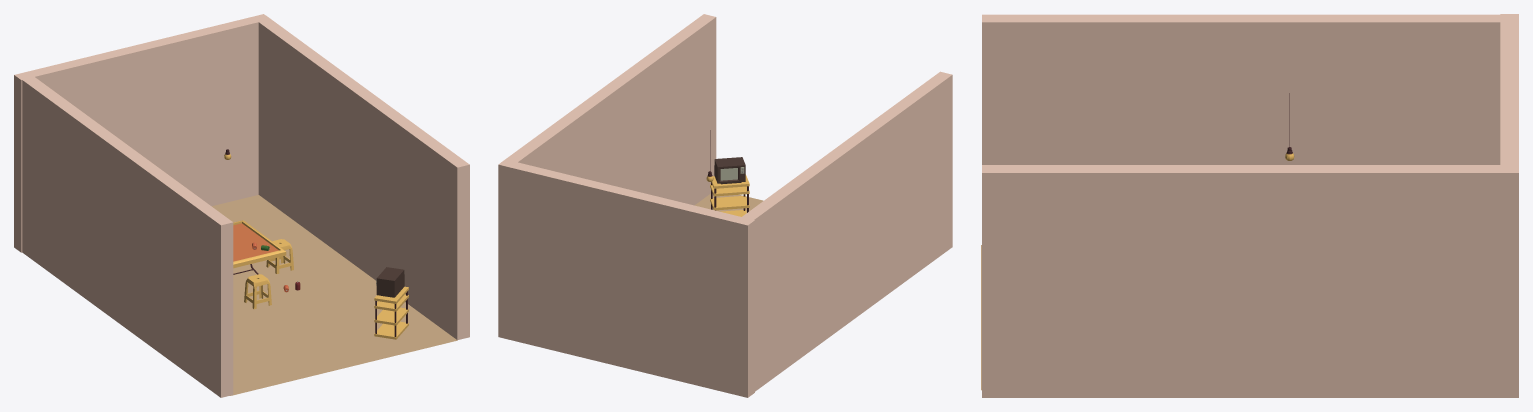
The model's file is 4Larrys_room.fbx.
3 renders of one model, left to right at view 1: azimuth 30°, elevation 25°; view 2: azimuth 150°, elevation 25°; view 3: azimuth 270°, elevation 25°, orthographic. The views are drawn at different scales.
Visible parts, largest first — view 1: polySurface201, polySurface110, pCube8, pCube9, polySurface209, polySurface190; view 2: polySurface201, pCube9, polySurface190; view 3: polySurface201.
Boxes of the visible parts, bbox=[...] form: polySurface201: bbox=[14, 14, 469, 397]; polySurface110: bbox=[212, 195, 457, 395]; pCube8: bbox=[233, 220, 286, 274]; pCube9: bbox=[374, 286, 408, 339]; polySurface209: bbox=[244, 239, 293, 309]; polySurface190: bbox=[376, 267, 404, 297]; polySurface201: bbox=[498, 14, 952, 397]; pCube9: bbox=[710, 174, 749, 216]; polySurface190: bbox=[714, 157, 745, 184]; polySurface201: bbox=[982, 14, 1518, 397].
Bounding box in the file's own units: 32.93 × 21.85 × 47.09.
8 materials, 8 textured.
